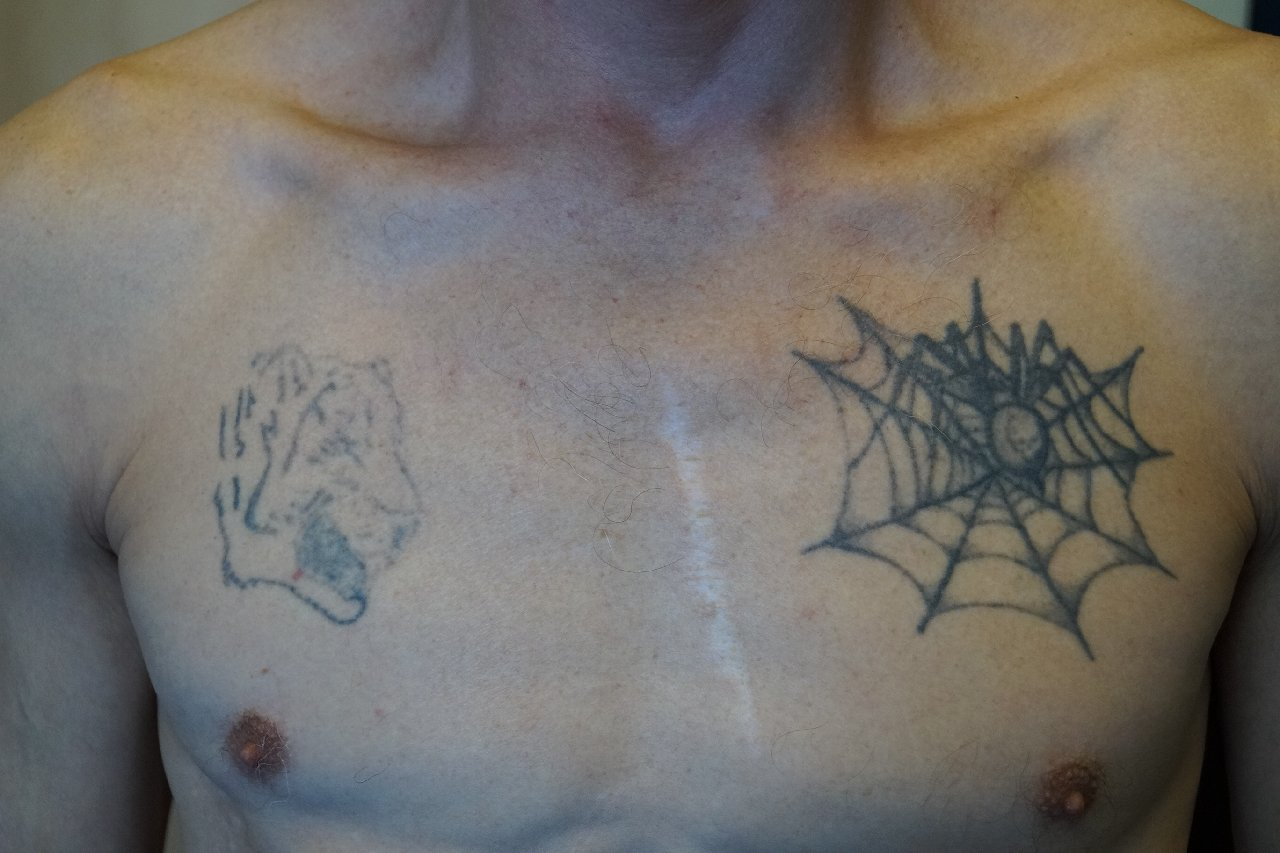tatu5_tigr: (164, 338, 480, 662)
